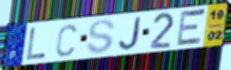2: (149, 11, 175, 50)
C: (55, 23, 78, 59)
E: (175, 7, 208, 48)
J: (118, 15, 144, 51)
L: (25, 27, 48, 62)
S: (86, 18, 117, 55)
